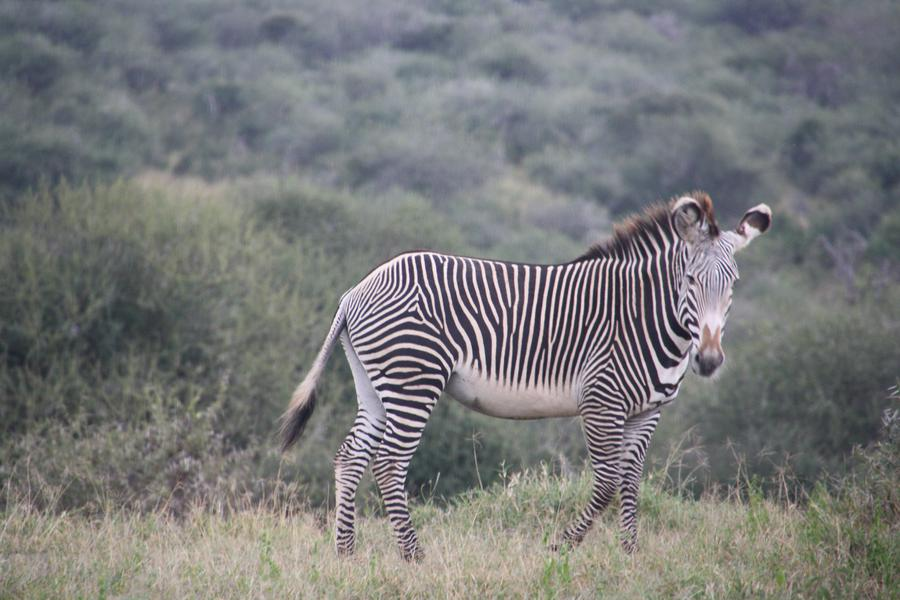zebra_grevys: (343, 236, 644, 414)
